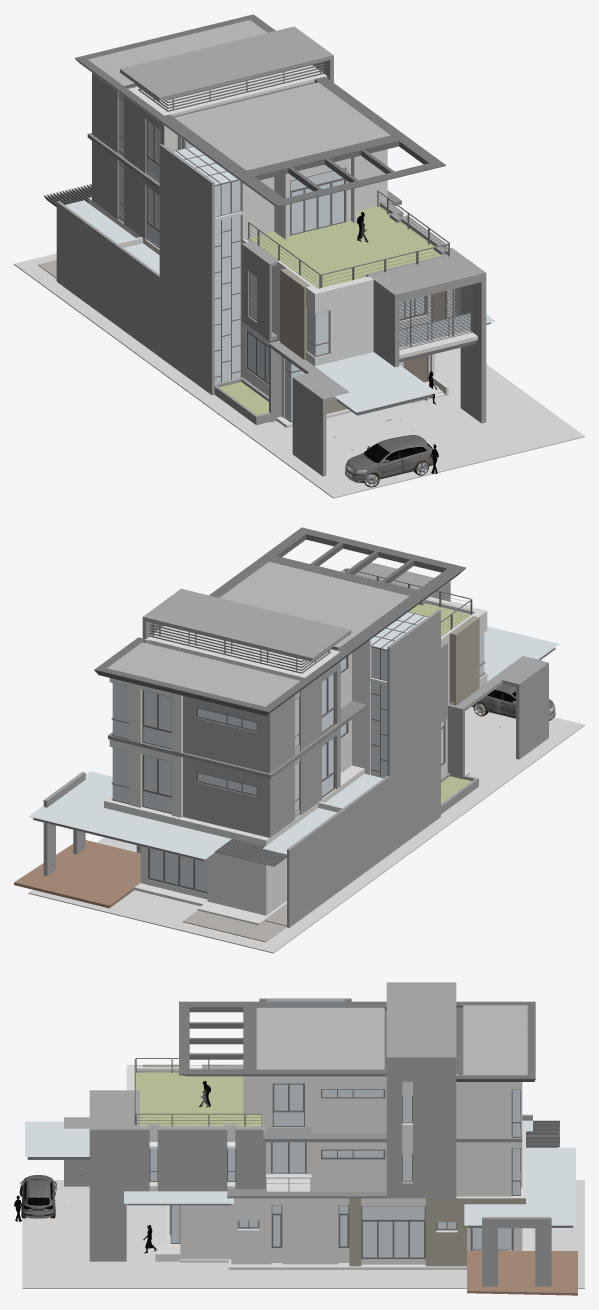
The model's file is Modern Banglowblend.fbx.
3 views of the same model, one above another, from view 1: azimuth 30°, elevation 25°; view 2: azimuth 150°, elevation 25°; view 3: azimuth 270°, elevation 25° (orthographic). The views are drawn at different scales.
Parts seen in each view (by area): view 1: G-__581610, G-Stage, G-__586650, G-Top, G-__580620, Sketchup, G-__581601, G-__581637, G-__581655, G-__580638, G-__580809, G-__583914 (+19 smaller); view 2: G-__581610, G-__586650, G-Stage, G-__581664, G-__580710, G-__581592, G-__580638, G-Top, G-__582447, G-__583617, G-__581637, G-__584769 (+21 smaller); view 3: G-Stage, G-Top, G-__586650, G-__580710, G-__581673, G-__580620, G-__580638, Sketchup, G-__581601, G-__582447, G-__581655, G-__580656 (+28 smaller).
Part boxes in pixels (x1,y1,x2,y2): G-__581610: [56, 140, 214, 395]; G-Stage: [14, 253, 584, 498]; G-__586650: [156, 76, 445, 206]; G-Top: [120, 26, 333, 101]; G-__580620: [373, 257, 486, 423]; Sketchup: [249, 206, 445, 288]; G-__581601: [164, 76, 387, 239]; G-__581637: [269, 340, 349, 476]; G-__581655: [241, 239, 373, 366]; G-__580638: [75, 14, 275, 118]; G-__580809: [314, 352, 437, 412]; G-__583914: [214, 215, 240, 383]; G-__581610: [287, 609, 440, 927]; G-__586650: [209, 527, 465, 654]; G-Stage: [28, 707, 584, 953]; G-__581664: [183, 728, 340, 837]; G-__580710: [104, 701, 454, 915]; G-__581592: [183, 661, 340, 773]; G-__580638: [94, 637, 348, 712]; G-Top: [142, 588, 351, 661]; G-__582447: [29, 771, 231, 859]; G-__583617: [14, 840, 140, 908]; G-__581637: [447, 656, 548, 779]; G-__584769: [143, 674, 333, 812]; G-Stage: [22, 1180, 584, 1288]; G-Top: [386, 982, 456, 1198]; G-__586650: [179, 1001, 386, 1074]; G-__580710: [180, 1126, 525, 1266]; G-__581673: [126, 1090, 265, 1191]; G-__580620: [89, 1090, 126, 1261]; G-__580638: [456, 1001, 535, 1079]; Sketchup: [136, 1072, 263, 1126]; G-__581601: [243, 1076, 522, 1138]; G-__582447: [464, 1147, 575, 1225]; G-__581655: [126, 1065, 522, 1196]; G-__580656: [311, 1076, 386, 1132].
Bounding box in the file's own units: 1538 × 1320 × 3196.
